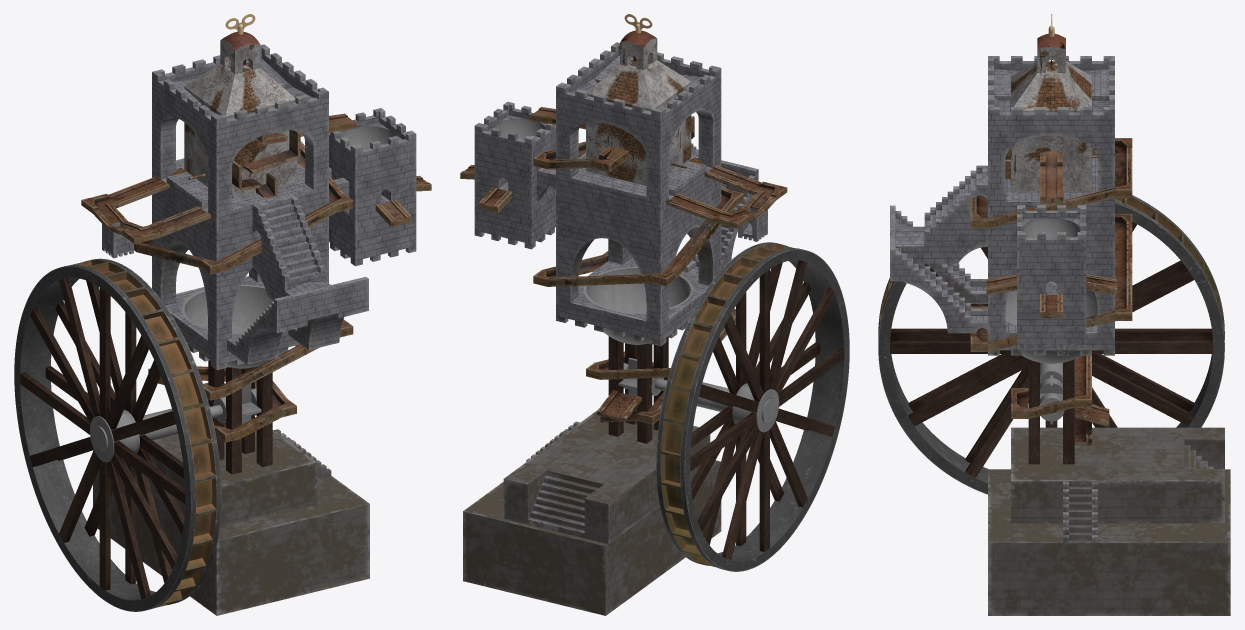
The model's file is marble-tower.glb.
3 renders of one model, left to right at view 1: azimuth 30°, elevation 25°; view 2: azimuth 150°, elevation 25°; view 3: azimuth 270°, elevation 25°, orthographic. The views are drawn at different scales.
Parts seen in each view (by area): view 1: tower, supports, spinner; view 2: tower, supports, spinner; view 3: tower, supports, spinner.
Part boxes in pixels (box(x1,y1,x2,y2)): tower: box(93, 31, 416, 615); supports: box(14, 258, 272, 611); spinner: box(81, 14, 431, 442); tower: box(463, 30, 767, 615); supports: box(608, 242, 849, 571); spinner: box(460, 14, 787, 424); tower: box(890, 33, 1230, 615); supports: box(878, 195, 1224, 494); spinner: box(970, 14, 1132, 445).
Bounding box in the file's own units: 31.9 × 52.61 × 30.5.
3 materials, 3 textured.
